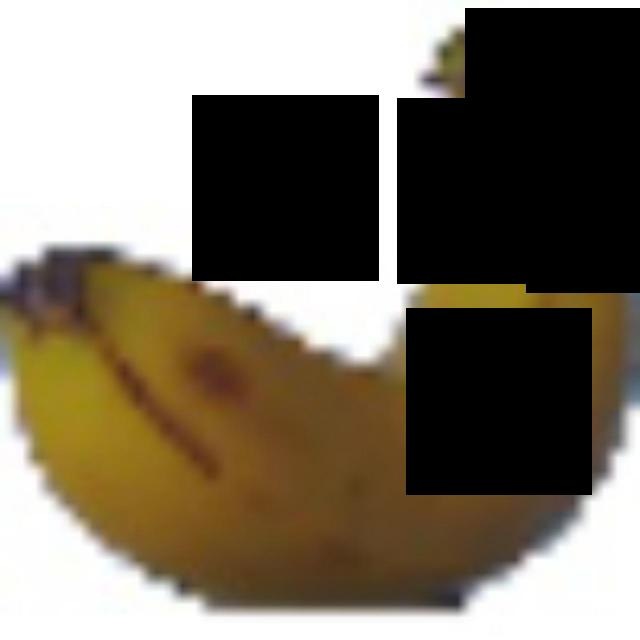banana: (0, 2, 624, 610)
